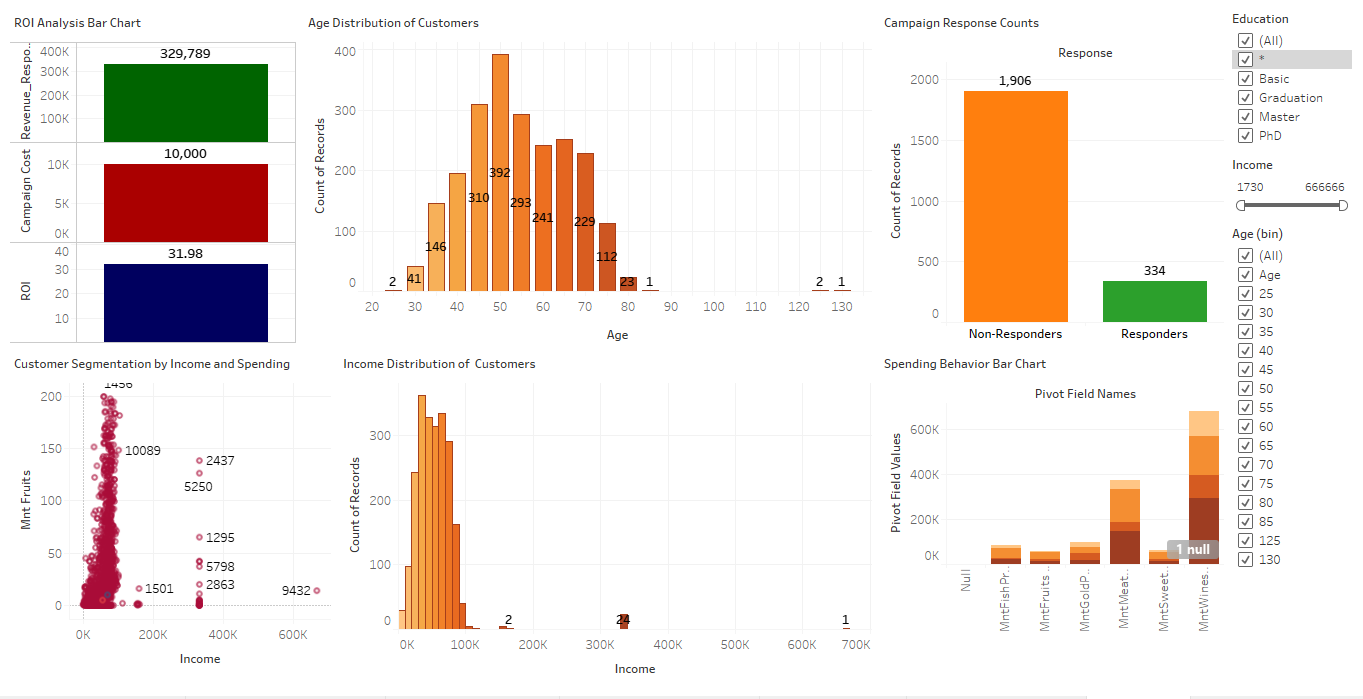

Layout of this report page (visuals, bound fields, positions):
{"tool":"tableau","page":{"name":"Dashboard 1","canvas":[1000,1000],"units":"permille","ordinal":0},"visuals":[{"type":"worksheet","title":" ROI Analysis Bar Chart","mark":"Automatic","rows":["Calculation_922675022919811083","Calculation_922675022828920832","Calculation_922675022920630284"],"box":[6.9,14.7,214.7,485.3]},{"type":"worksheet","title":"Age Distribution of Customers","mark":"Automatic","rows":["Calculation_1650287837226504192"],"cols":["Age (bin)"],"box":[221.7,14.7,420.7,485.3]},{"type":"worksheet","title":"Campaign Response Counts","mark":"Bar","rows":["Calculation_1650287837226504192"],"cols":["Response"],"box":[642.4,14.7,257.1,485.3]},{"type":"filter","title":"Customer Segmentation by Income and Spending","param":"[federated.0i9hh181elbazp16cxb781jbqcvk].[attr:Education:nk]","box":[899.6,14.7,93.5,268.4]},{"type":"filter","title":"Customer Segmentation by Income and Spending","param":"[federated.0i9hh181elbazp16cxb781jbqcvk].[none:Income:qk]","box":[899.6,283.1,93.5,126.8]},{"type":"filter","title":"Age Distribution of Customers","param":"[federated.0i9hh181elbazp16cxb781jbqcvk].[none:Age (bin):ok]","box":[899.6,409.9,93.5,575.4]},{"type":"worksheet","title":"Customer Segmentation by Income and Spending","mark":"Automatic","rows":["MntFruits"],"cols":["Income"],"box":[6.9,500,240.5,485.3]},{"type":"worksheet","title":"Income Distribution of Customers","mark":"Automatic","rows":["Calculation_1650287837226504192"],"cols":["Income (bin)"],"box":[247.4,500,395,485.3]},{"type":"worksheet","title":"Spending Behavior Bar Chart","mark":"Automatic","rows":["Pivot Field Values"],"cols":["Pivot Field Names"],"box":[642.4,500,257.1,485.3]}]}

Visuals, with their boxes on the dashboard's canvas, which has no fixed pixel size, in thousandths of its width and height (x1, y1, x2, y2). These are canvas units, not pixel positions in the 1363x699 screenshot, which may show the page scaled, cropped or inside an application window:
" ROI Analysis Bar Chart" worksheet: [left=7, top=15, right=222, bottom=500]
"Age Distribution of Customers" worksheet: [left=222, top=15, right=642, bottom=500]
"Campaign Response Counts" worksheet (Bar marks): [left=642, top=15, right=900, bottom=500]
"Customer Segmentation by Income and Spending" filter: [left=900, top=15, right=993, bottom=283]
"Customer Segmentation by Income and Spending" filter: [left=900, top=283, right=993, bottom=410]
"Age Distribution of Customers" filter: [left=900, top=410, right=993, bottom=985]
"Customer Segmentation by Income and Spending" worksheet: [left=7, top=500, right=247, bottom=985]
"Income Distribution of Customers" worksheet: [left=247, top=500, right=642, bottom=985]
"Spending Behavior Bar Chart" worksheet: [left=642, top=500, right=900, bottom=985]
